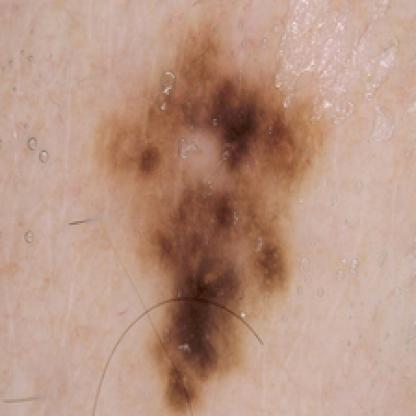benign: (108, 24, 314, 411)
